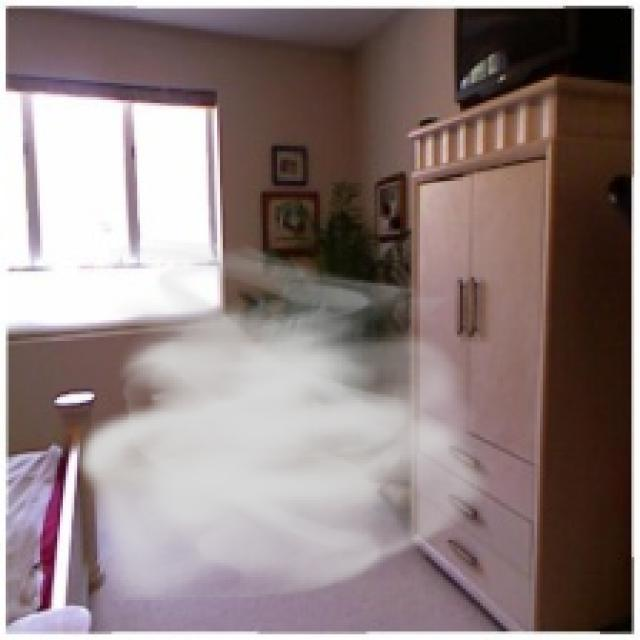Smoke: (74, 237, 500, 612)
